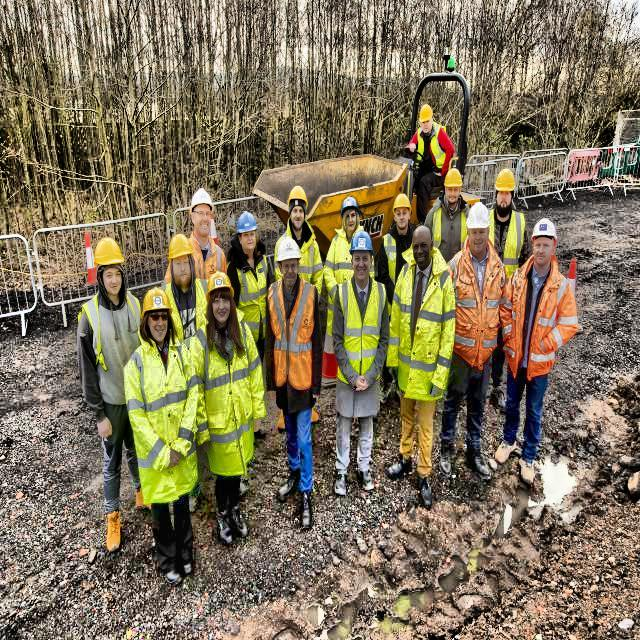person: (123, 280, 190, 556), (82, 228, 142, 536), (449, 203, 509, 484), (389, 226, 447, 514), (514, 214, 574, 478), (269, 240, 323, 525), (195, 276, 264, 496), (335, 224, 383, 498), (232, 206, 270, 360), (486, 167, 520, 276), (286, 179, 319, 290), (187, 183, 218, 284), (437, 165, 468, 258), (412, 100, 446, 184), (166, 230, 194, 318), (388, 194, 413, 269), (334, 197, 360, 263), (420, 106, 432, 128), (546, 349, 550, 356)
